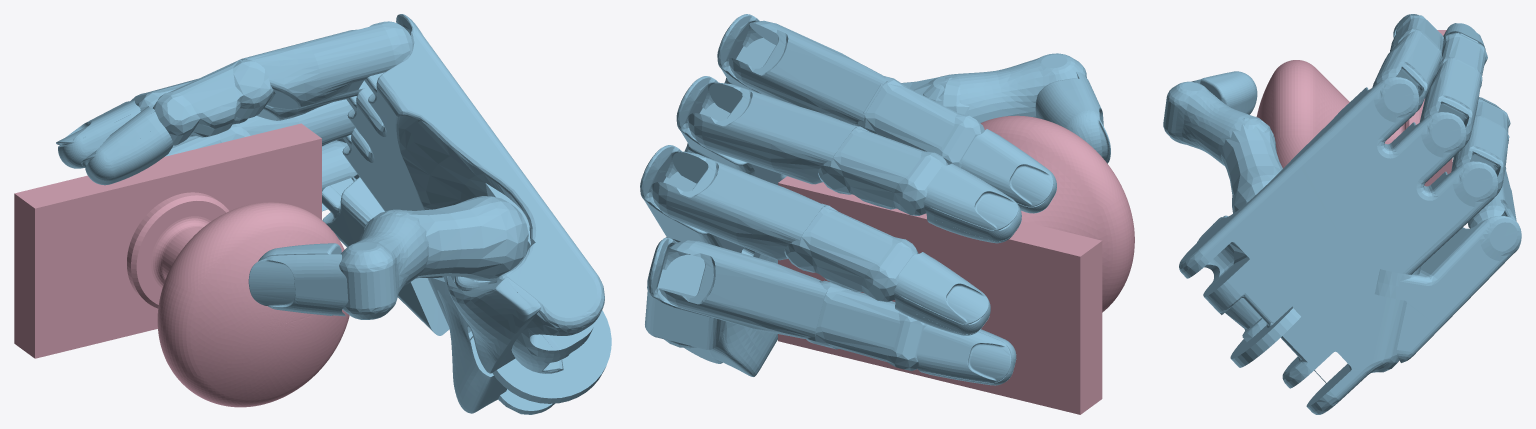
3 renders of one model, left to right at view 1: azimuth 30°, elevation 25°; view 2: azimuth 150°, elevation 25°; view 3: azimuth 270°, elevation 25°, orthographic. The views are drawn at different scales.
Parts seen in each view (by area): view 1: world; view 2: world; view 3: world.
Part boxes in pixels (box(x1,y1,x2,y2)): world: box(14, 14, 611, 414); world: box(640, 14, 1134, 414); world: box(1163, 14, 1521, 414).
Size of the model in its own units: 0.1659 by 0.1266 by 0.1352.
